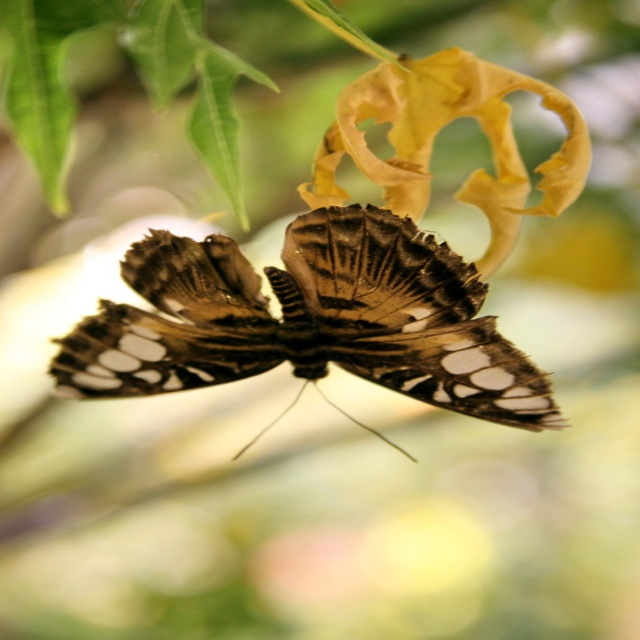Butterfly: (75, 197, 535, 488)
